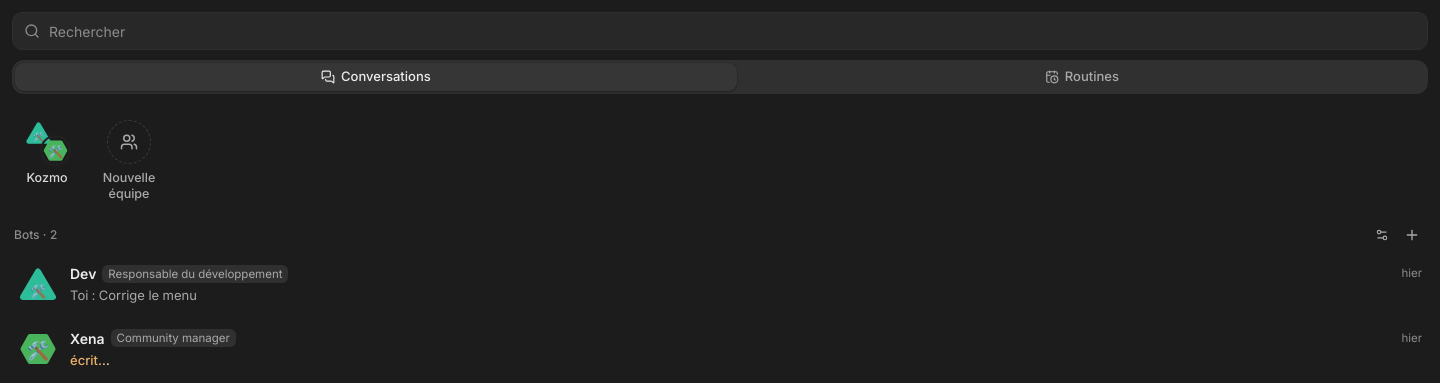
it: ConversationList › switches to the routines tab
Click the tab "Routines" at (1082, 77), box [739, 63, 1425, 91]
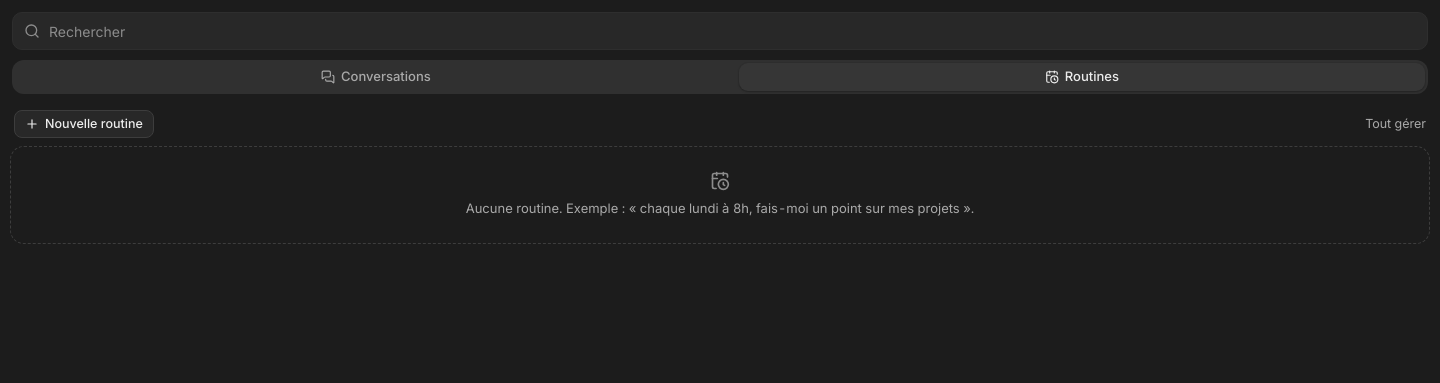
expect the text "Aucune routine" is shown: met, box [466, 200, 974, 216]
